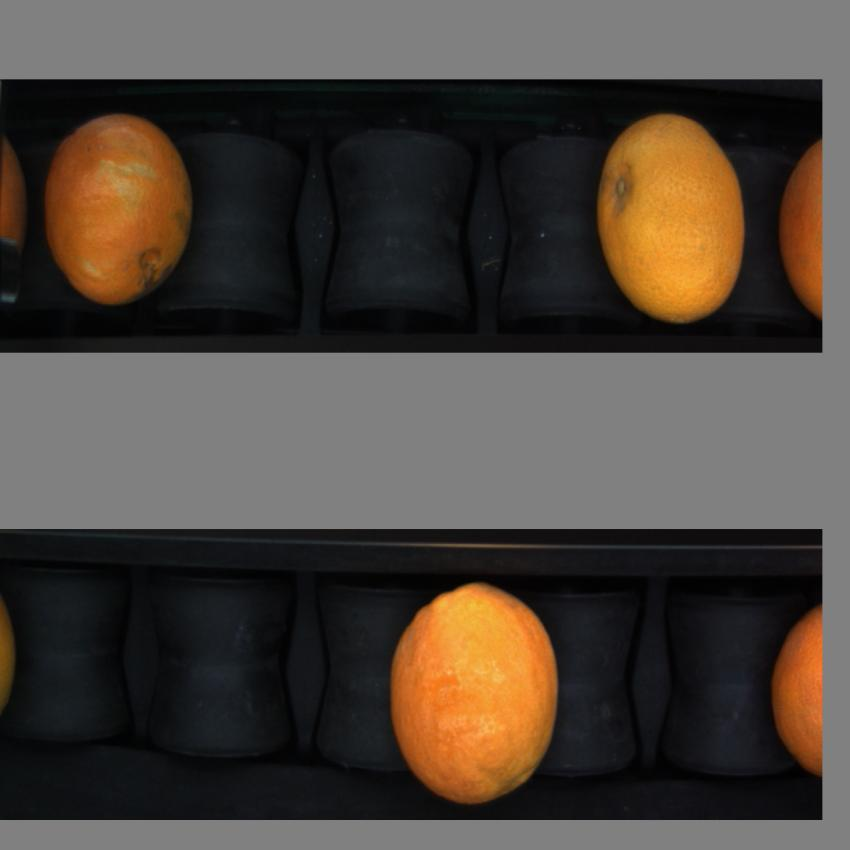Buen estado: (383, 574, 565, 806), (594, 115, 750, 325), (40, 111, 200, 310), (768, 597, 821, 781)
Mal estado: (773, 134, 824, 324)
